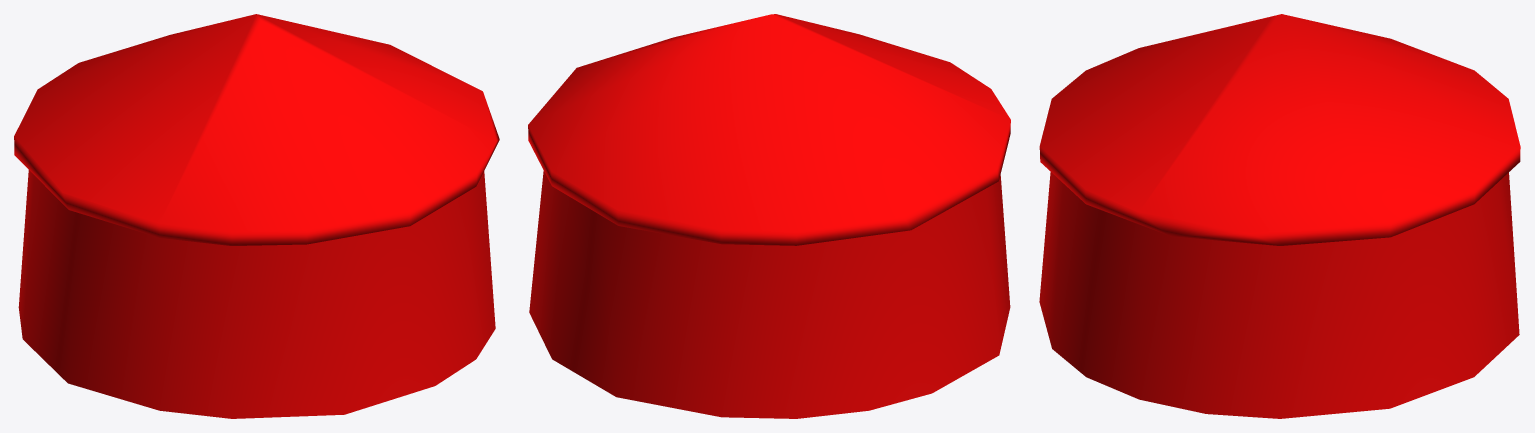
Rendered from Tent_LOD0_Baked.fbx.
3 views of the same model, side by side, from view 1: azimuth 30°, elevation 25°; view 2: azimuth 150°, elevation 25°; view 3: azimuth 270°, elevation 25° (orthographic).
Parts seen in each view (by area): view 1: Tent_Low; view 2: Tent_Low; view 3: Tent_Low.
Part boxes in pixels (x1=…): Tent_Low: x1=14, y1=14, x2=499, y2=418; Tent_Low: x1=528, y1=14, x2=1010, y2=418; Tent_Low: x1=1039, y1=14, x2=1520, y2=418.
Bounding box in the file's own units: 518 × 358 × 514.
